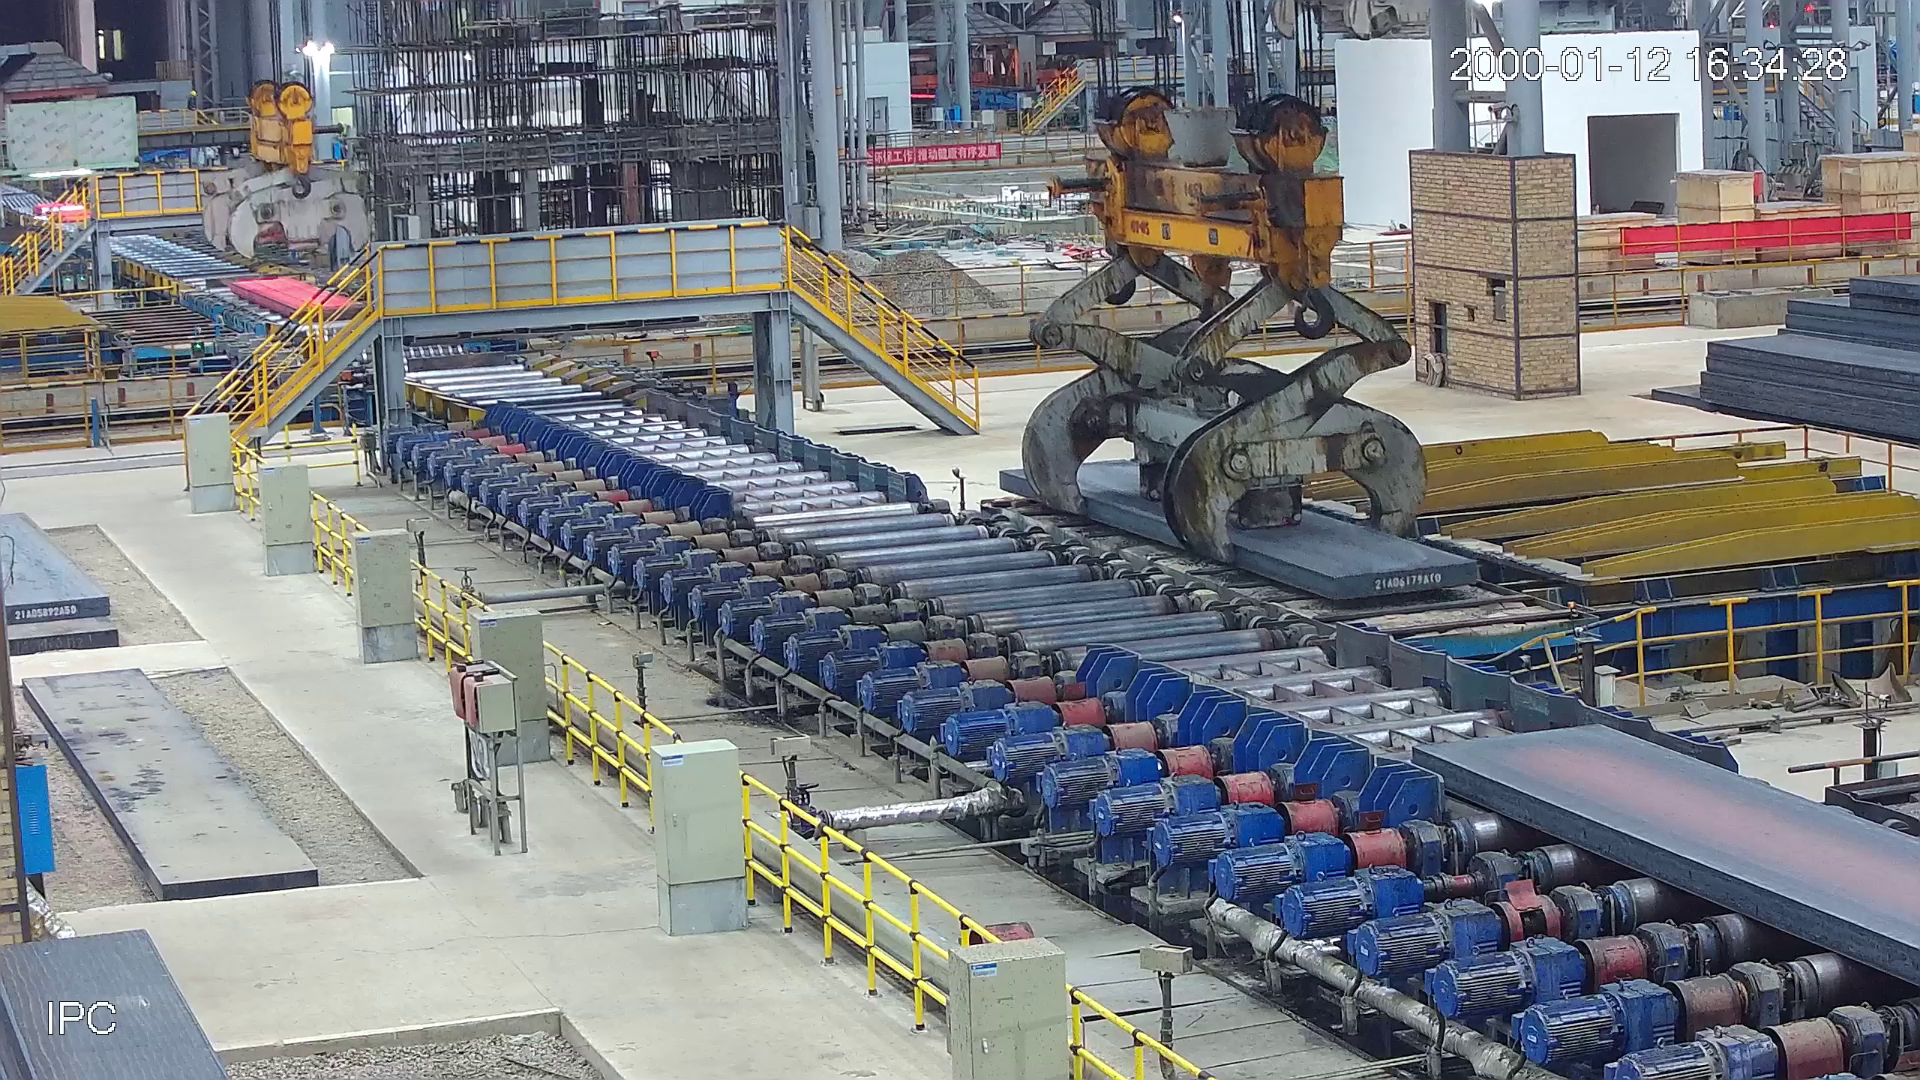crane: (203, 78, 375, 261)
craneandslab: (998, 88, 1466, 597)
slab: (1415, 732, 1920, 989), (231, 280, 372, 324)
